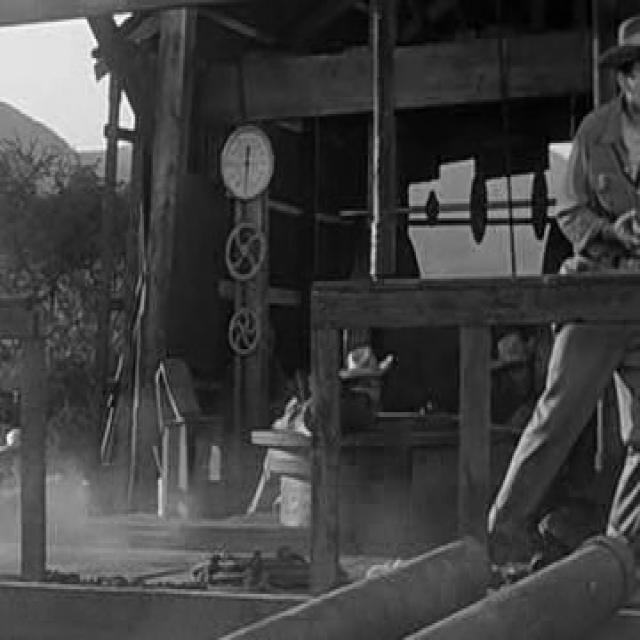Guns: (0, 601, 25, 640)
